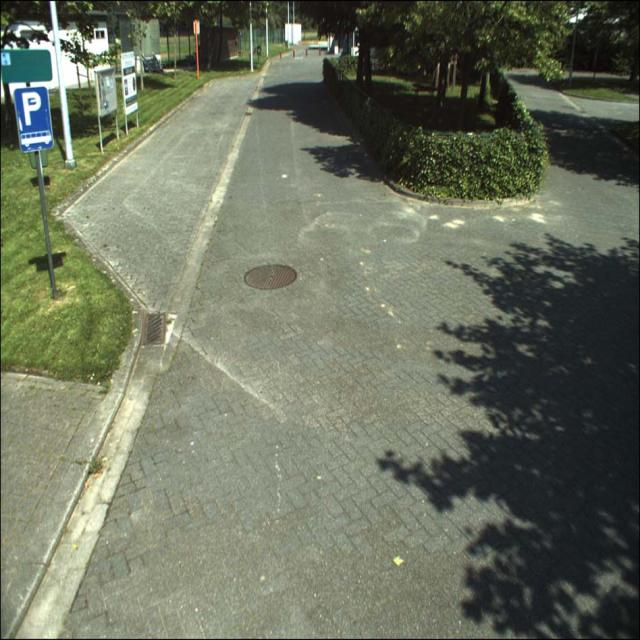park: (14, 87, 50, 133)
